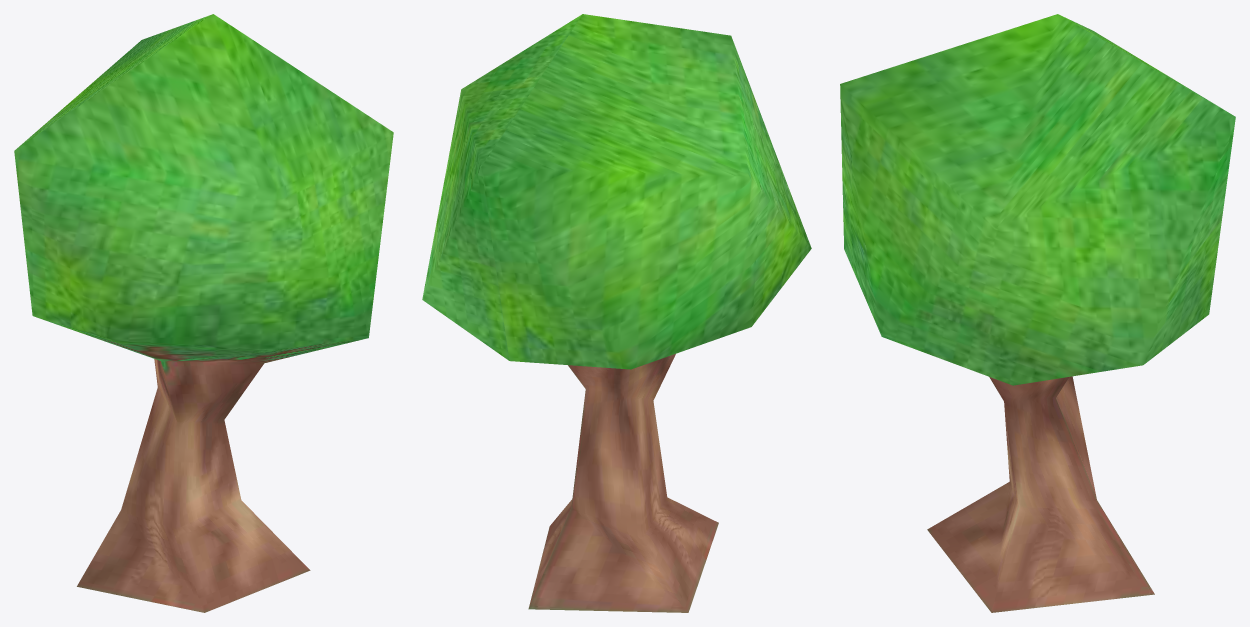
Rendered from Tree1.gltf.
3 renders of one model, left to right at view 1: azimuth 30°, elevation 25°; view 2: azimuth 150°, elevation 25°; view 3: azimuth 270°, elevation 25°, orthographic. The views are drawn at different scales.
Parts seen in each view (by area): view 1: tree; view 2: tree; view 3: tree.
Boxes of the visible parts, x1,y1,x2,y2 form: tree: [14, 14, 393, 612]; tree: [422, 14, 811, 612]; tree: [840, 14, 1235, 612].
Size of the model in its own units: 5.57 by 8.96 by 5.57.
1 material, 1 textured.
